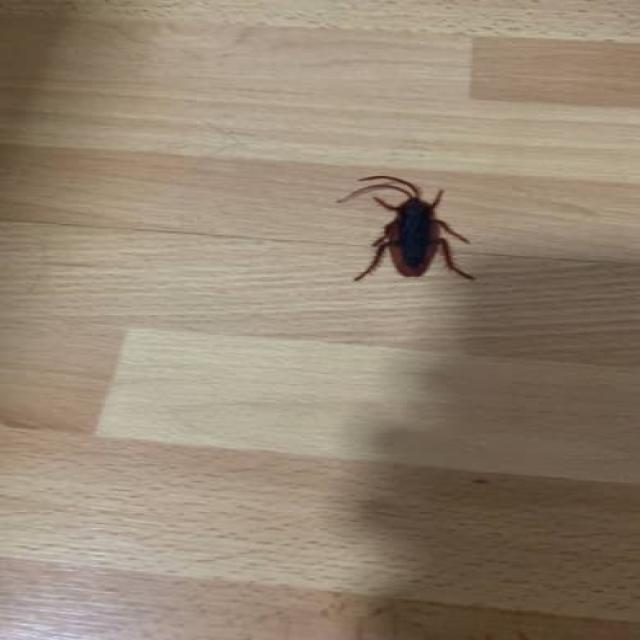Cockroach: (338, 168, 476, 298)
